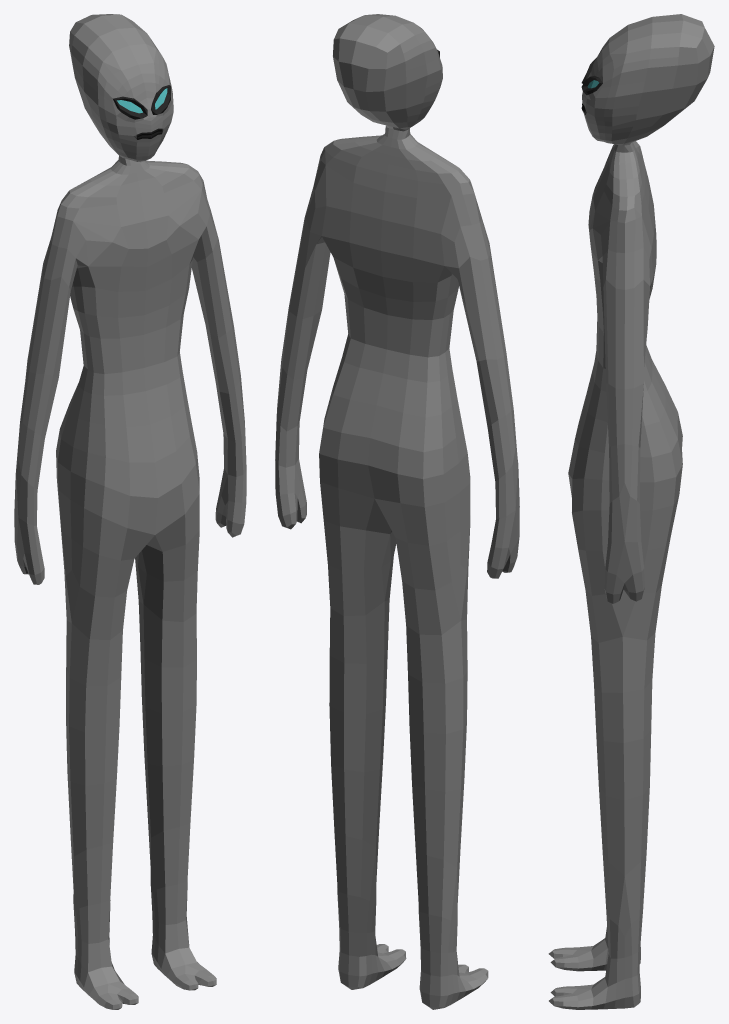
The model's file is Alien.fbx.
3 renders of one model, left to right at view 1: azimuth 30°, elevation 25°; view 2: azimuth 150°, elevation 25°; view 3: azimuth 270°, elevation 25°, orthographic. The views are drawn at different scales.
Parts seen in each view (by area): view 1: Cube; view 2: Cube; view 3: Cube.
Boxes of the visible parts, x1,y1,x2,y2 form: Cube: [14, 14, 246, 1009]; Cube: [275, 14, 519, 1009]; Cube: [548, 14, 714, 1009].
Size of the model in its own units: 787 by 3157 by 492.
